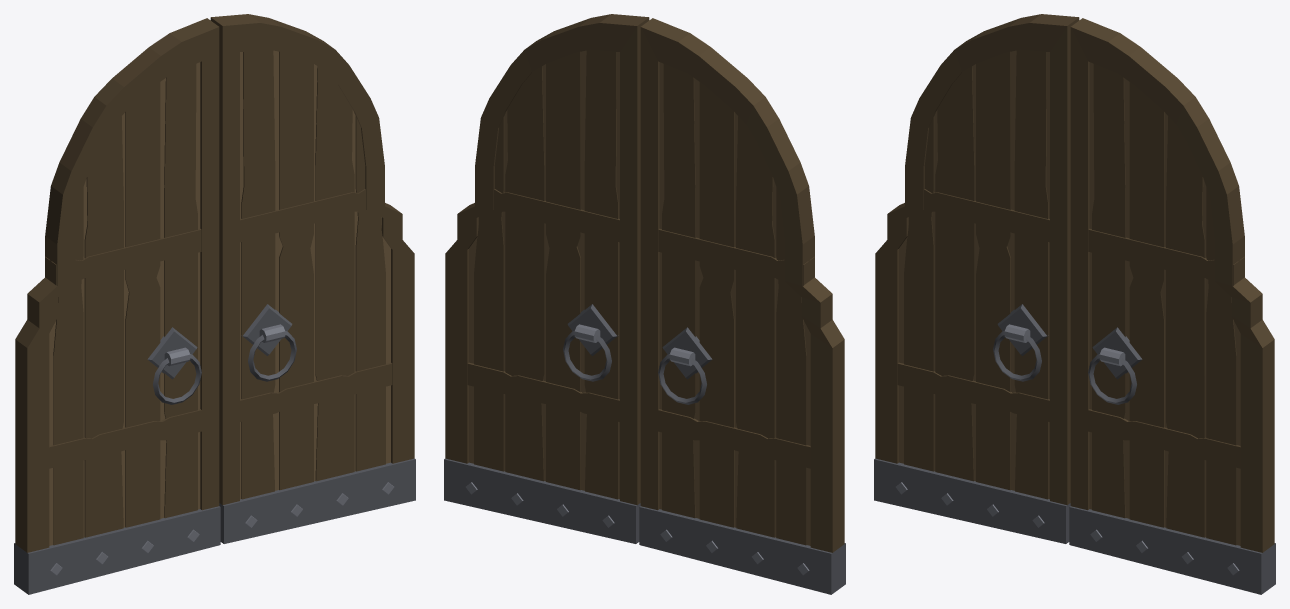
The model's file is quaternius-ultimate-modular-ruins-doors-roundarch.glb.
The picture shows the model from 3 angles, left to right: view 1: azimuth 30°, elevation 25°; view 2: azimuth 150°, elevation 25°; view 3: azimuth 330°, elevation 25°; orthographic projection.
Visible parts, largest first — view 1: Doors_RoundArch_L; view 2: Doors_RoundArch_L; view 3: Doors_RoundArch_L.
Part boxes in pixels (x1,y1,x2,y2): Doors_RoundArch_L: [14, 14, 415, 594]; Doors_RoundArch_L: [444, 14, 845, 594]; Doors_RoundArch_L: [874, 14, 1275, 594].
Bounding box in the file's own units: 2.31 × 2.97 × 0.2744.
